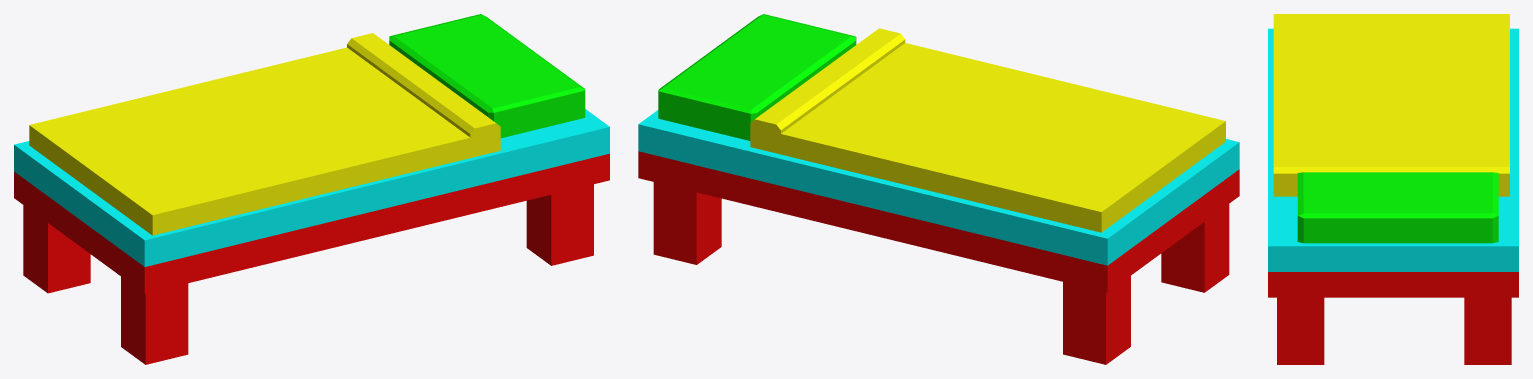
Rendered from bed.fbx.
3 renders of one model, left to right at view 1: azimuth 30°, elevation 25°; view 2: azimuth 150°, elevation 25°; view 3: azimuth 270°, elevation 25°, orthographic. The views are drawn at different scales.
Parts seen in each view (by area): view 1: Cube.005; view 2: Cube.005; view 3: Cube.005.
Part boxes in pixels (x1,y1,x2,y2): Cube.005: (14, 14, 609, 364); Cube.005: (638, 14, 1239, 364); Cube.005: (1268, 14, 1518, 364).
Bounding box in the file's own units: 934 × 304 × 455.
